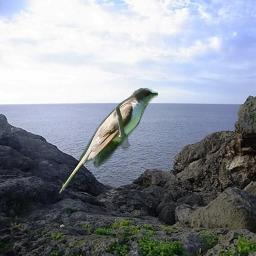Cuckoo: (57, 88, 158, 195)
